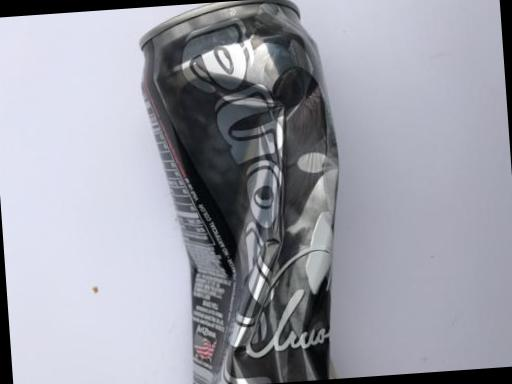metal: (97, 0, 424, 384)
